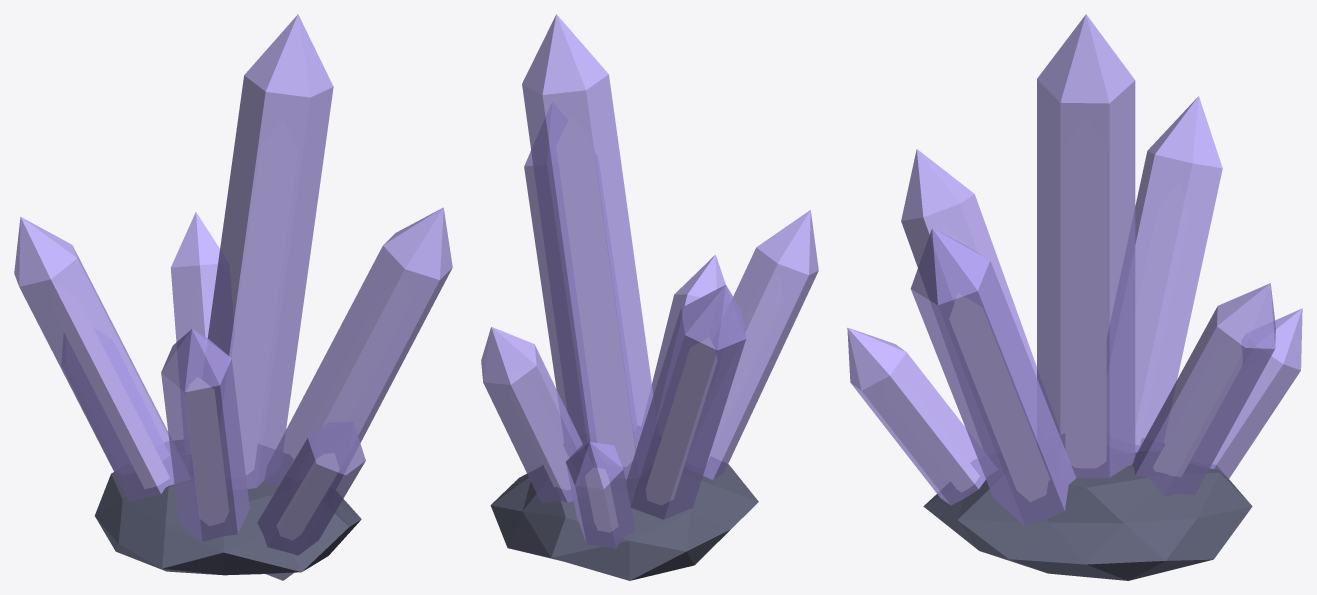
The model's file is Crystal_Cluster.glb.
3 renders of one model, left to right at view 1: azimuth 30°, elevation 25°; view 2: azimuth 150°, elevation 25°; view 3: azimuth 270°, elevation 25°, orthographic. The views are drawn at different scales.
Visible parts, largest first — view 1: Crystals, Base, Cores; view 2: Crystals, Base, Cores; view 3: Crystals, Base, Cores.
Part boxes in pixels (x1=…): Crystals: x1=14, y1=14, x2=452, y2=580; Base: x1=94, y1=445, x2=361, y2=575; Cores: x1=55, y1=123, x2=407, y2=534; Crystals: x1=481, y1=14, x2=818, y2=549; Base: x1=490, y1=427, x2=758, y2=580; Cores: x1=511, y1=124, x2=780, y2=528; Crystals: x1=847, y1=14, x2=1302, y2=525; Base: x1=923, y1=436, x2=1252, y2=580; Cores: x1=883, y1=128, x2=1241, y2=501.
Size of the model in its own units: 5.47 by 8.61 by 6.11.
